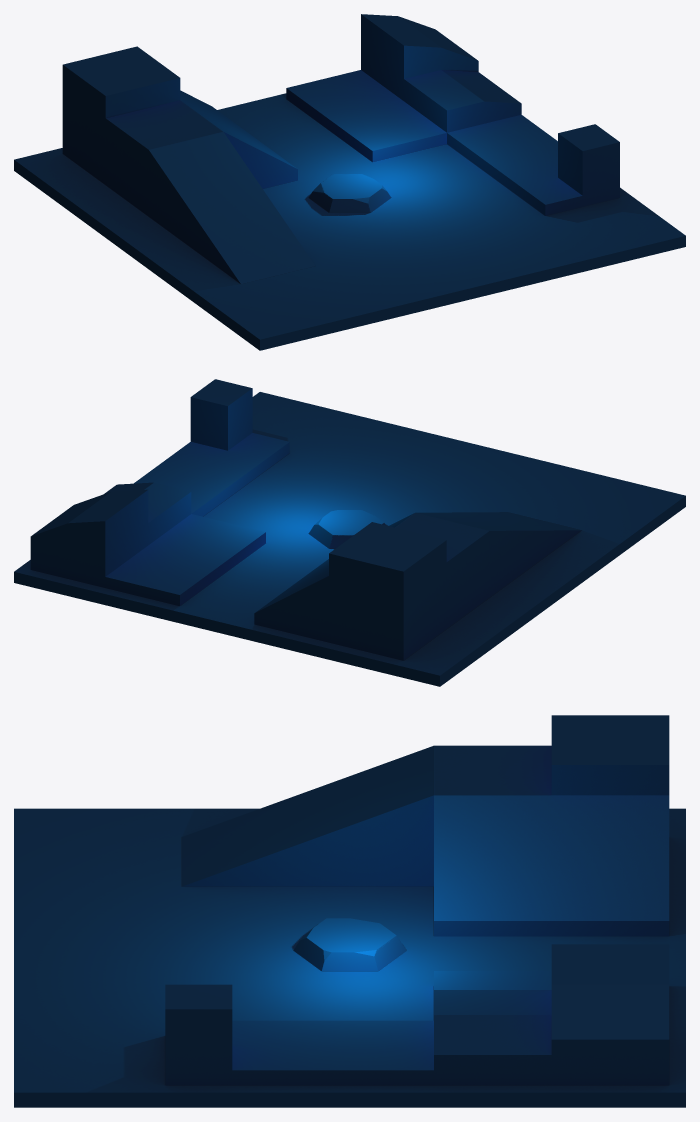
The model's file is example_scene_with_lightmap.glb.
The picture shows the model from 3 angles, top to bottom: view 1: azimuth 30°, elevation 25°; view 2: azimuth 150°, elevation 25°; view 3: azimuth 270°, elevation 25°; orthographic projection. The views are drawn at different scales.
Parts seen in each view (by area): view 1: Floor_castnoshadow, Cube.002, Cube.001, Cylinder; view 2: Floor_castnoshadow, Cube.001, Cube.002, Cylinder; view 3: Floor_castnoshadow, Cube.002, Cube.001, Cylinder.
Part boxes in pixels (box(x1,y1,x2,y2)): Floor_castnoshadow: box(14, 93, 685, 350); Cube.002: box(62, 46, 315, 284); Cube.001: box(286, 14, 619, 215); Cylinder: box(308, 174, 391, 212); Floor_castnoshadow: box(14, 392, 685, 686); Cube.001: box(30, 379, 289, 605); Cube.002: box(254, 512, 581, 660); Cylinder: box(308, 510, 385, 548); Floor_castnoshadow: box(14, 808, 685, 1107); Cube.002: box(182, 715, 669, 936); Cube.001: box(165, 944, 669, 1085); Cylinder: box(293, 918, 406, 971).
Bounding box in the file's own units: 40 × 9 × 40.
Materials: 4 (4 with a texture image).
